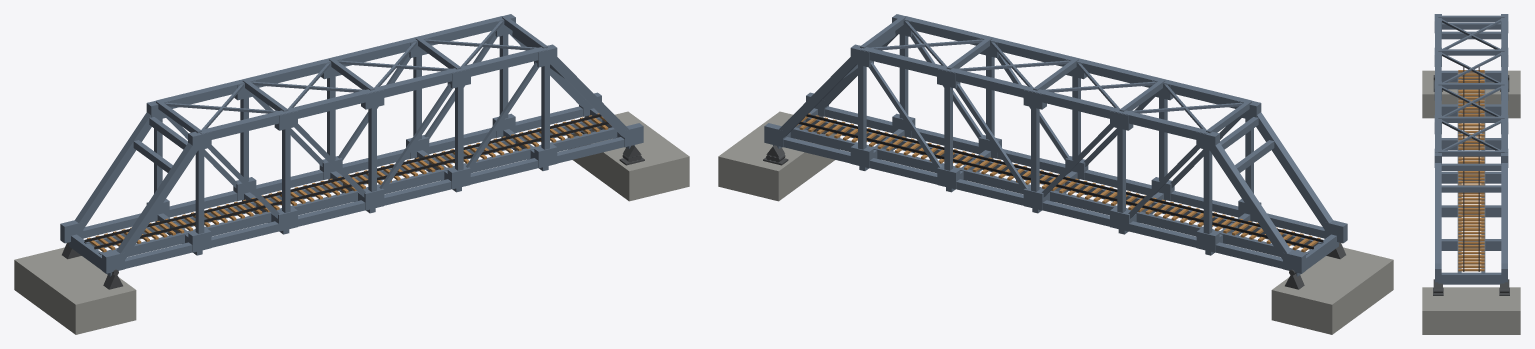
The model's file is bridge.glb.
3 renders of one model, left to right at view 1: azimuth 30°, elevation 25°; view 2: azimuth 150°, elevation 25°; view 3: azimuth 270°, elevation 25°, orthographic. The views are drawn at different scales.
Visible parts, largest first — view 1: bridge_bridge_steel, bridge_concrete, bridge_wood, bridge_dark_steel, bridge_cast_iron; view 2: bridge_bridge_steel, bridge_concrete, bridge_wood, bridge_dark_steel, bridge_cast_iron; view 3: bridge_bridge_steel, bridge_concrete, bridge_wood, bridge_dark_steel, bridge_cast_iron.
Boxes of the visible parts, bbox=[...] form: bridge_bridge_steel: bbox=[60, 14, 643, 276]; bridge_concrete: bbox=[14, 111, 689, 334]; bridge_wood: bbox=[87, 113, 611, 252]; bridge_dark_steel: bbox=[84, 114, 608, 249]; bridge_cast_iron: bbox=[62, 116, 644, 289]; bridge_bridge_steel: bbox=[764, 14, 1347, 276]; bridge_concrete: bbox=[718, 111, 1393, 334]; bridge_wood: bbox=[796, 113, 1320, 252]; bridge_dark_steel: bbox=[799, 114, 1323, 249]; bridge_cast_iron: bbox=[763, 116, 1345, 289]; bridge_bridge_steel: bbox=[1434, 14, 1508, 284]; bridge_concrete: bbox=[1422, 70, 1520, 334]; bridge_wood: bbox=[1458, 70, 1484, 271]; bridge_dark_steel: bbox=[1463, 67, 1479, 271]; bridge_cast_iron: bbox=[1433, 75, 1509, 295].
Size of the model in its own units: 42.6 by 10.95 by 7.4.
